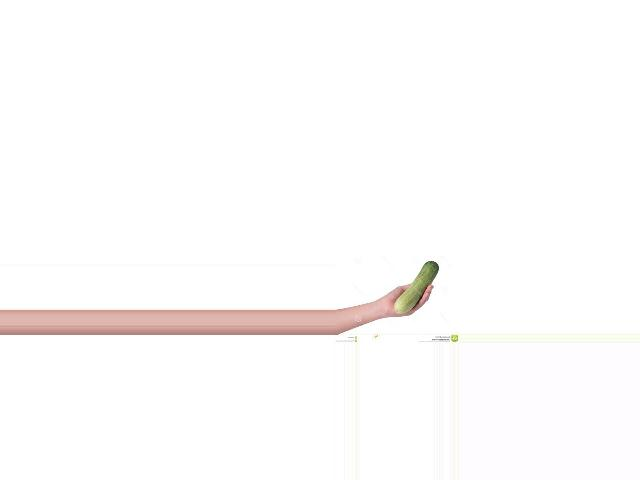cucumber: (394, 261, 437, 314)
